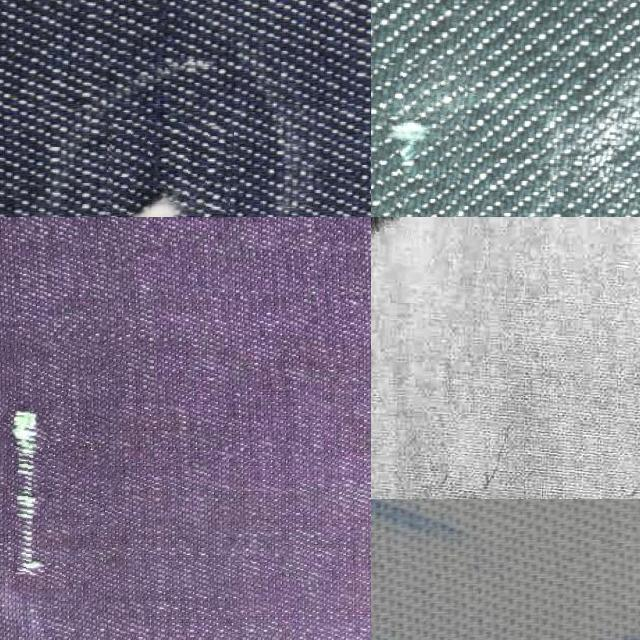Thread_other: (371, 499, 640, 640), (382, 451, 546, 499), (371, 217, 446, 281)
stains: (0, 340, 118, 596), (371, 58, 461, 217), (103, 120, 231, 217)
